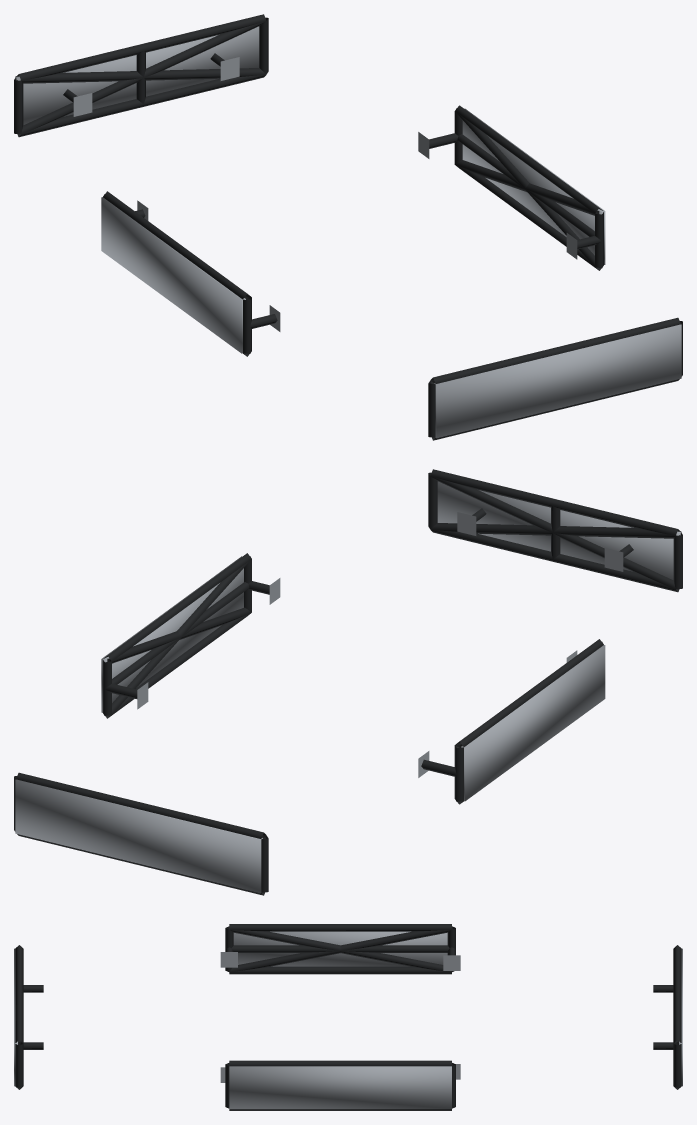
File: castellani_espinho_protecao.glb
3 renders of one model, top to bottom at view 1: azimuth 30°, elevation 25°; view 2: azimuth 150°, elevation 25°; view 3: azimuth 270°, elevation 25°, orthographic. The views are drawn at different scales.
Visible parts, largest first — view 1: Protection_front_Level3_Details, Protection_left_Level3_Details, Protection_rear_Level1_Details, Protection_rear_Level3_Details, Protection_rear_Level2_Details, Protection_right_Level1_Details, Protection_right_Level2_Details, Protection_right_Level3_Details, Protection_front_Level1_Details, Protection_left_Level1_Details; view 2: Protection_rear_Level3_Details, Protection_left_Level3_Details, Protection_front_Level1_Details, Protection_front_Level3_Details, Protection_front_Level2_Details, Protection_right_Level1_Details, Protection_right_Level2_Details, Protection_right_Level3_Details, Protection_rear_Level1_Details, Protection_left_Level1_Details; view 3: Protection_right_Level3_Details, Protection_left_Level1_Details, Protection_left_Level2_Details, Protection_left_Level3_Details, Protection_right_Level1_Details, Protection_rear_Level1_Details, Protection_front_Level1_Details.
Part boxes in pixels (x1,y1,x2,y2): Protection_front_Level3_Details: (434,324,681,438); Protection_left_Level3_Details: (101,197,245,353); Protection_rear_Level1_Details: (14,14,268,137); Protection_rear_Level3_Details: (15,26,259,125); Protection_rear_Level2_Details: (16,21,265,136); Protection_right_Level1_Details: (418,105,603,270); Protection_right_Level2_Details: (455,111,602,270); Protection_right_Level3_Details: (462,108,605,264); Protection_front_Level1_Details: (428,317,682,440); Protection_left_Level1_Details: (103,191,280,356); Protection_rear_Level3_Details: (15,779,262,893); Protection_left_Level3_Details: (461,645,605,801); Protection_front_Level1_Details: (428,469,682,592); Protection_front_Level3_Details: (437,481,681,580); Protection_front_Level2_Details: (431,476,680,591); Protection_right_Level1_Details: (102,553,280,718); Protection_right_Level2_Details: (103,559,251,717); Protection_right_Level3_Details: (101,556,243,712); Protection_rear_Level1_Details: (14,772,268,895); Protection_left_Level1_Details: (418,639,603,804); Protection_right_Level3_Details: (229,1066,451,1109); Protection_left_Level1_Details: (220,924,460,974); Protection_left_Level2_Details: (229,928,452,972); Protection_left_Level3_Details: (233,931,447,966); Protection_right_Level1_Details: (220,1060,460,1110); Protection_rear_Level1_Details: (653,945,681,1089); Protection_front_Level1_Details: (15,945,43,1089).
Size of the model in its own units: 2.13 by 0.354 by 4.27.
1 material, 1 textured.
